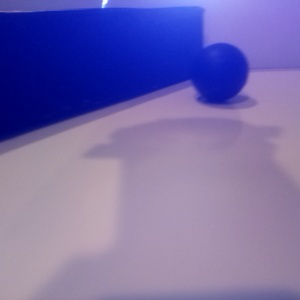dead_ball: (189, 41, 249, 101)
